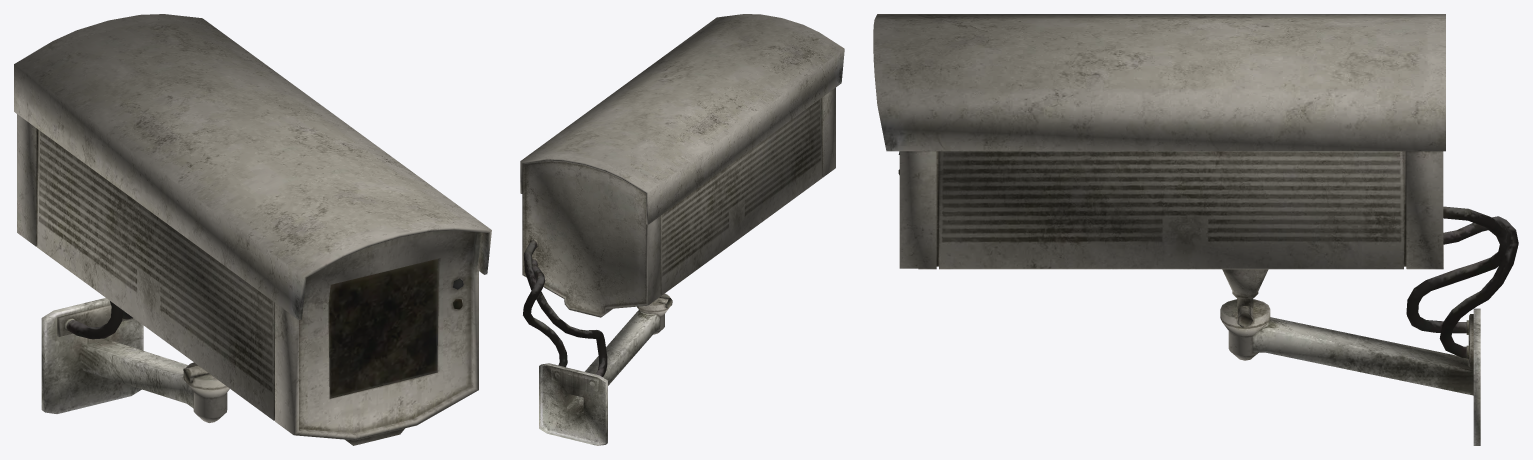
Rendered from cctv-cam.glb.
3 views of the same model, side by side, from view 1: azimuth 30°, elevation 25°; view 2: azimuth 150°, elevation 25°; view 3: azimuth 270°, elevation 25° (orthographic). The views are drawn at different scales.
Visible parts, largest first — view 1: CCTV_Camera_low (×2); view 2: CCTV_Camera_low (×2); view 3: CCTV_Camera_low (×2).
Part boxes in pixels (x1=…): CCTV_Camera_low (×2): x1=14, y1=14, x2=491, y2=445; CCTV_Camera_low (×2): x1=520, y1=14, x2=844, y2=445; CCTV_Camera_low (×2): x1=873, y1=14, x2=1518, y2=445.
Size of the model in its own units: 0.663 by 1.33 by 2.
2 materials, 2 textured.
